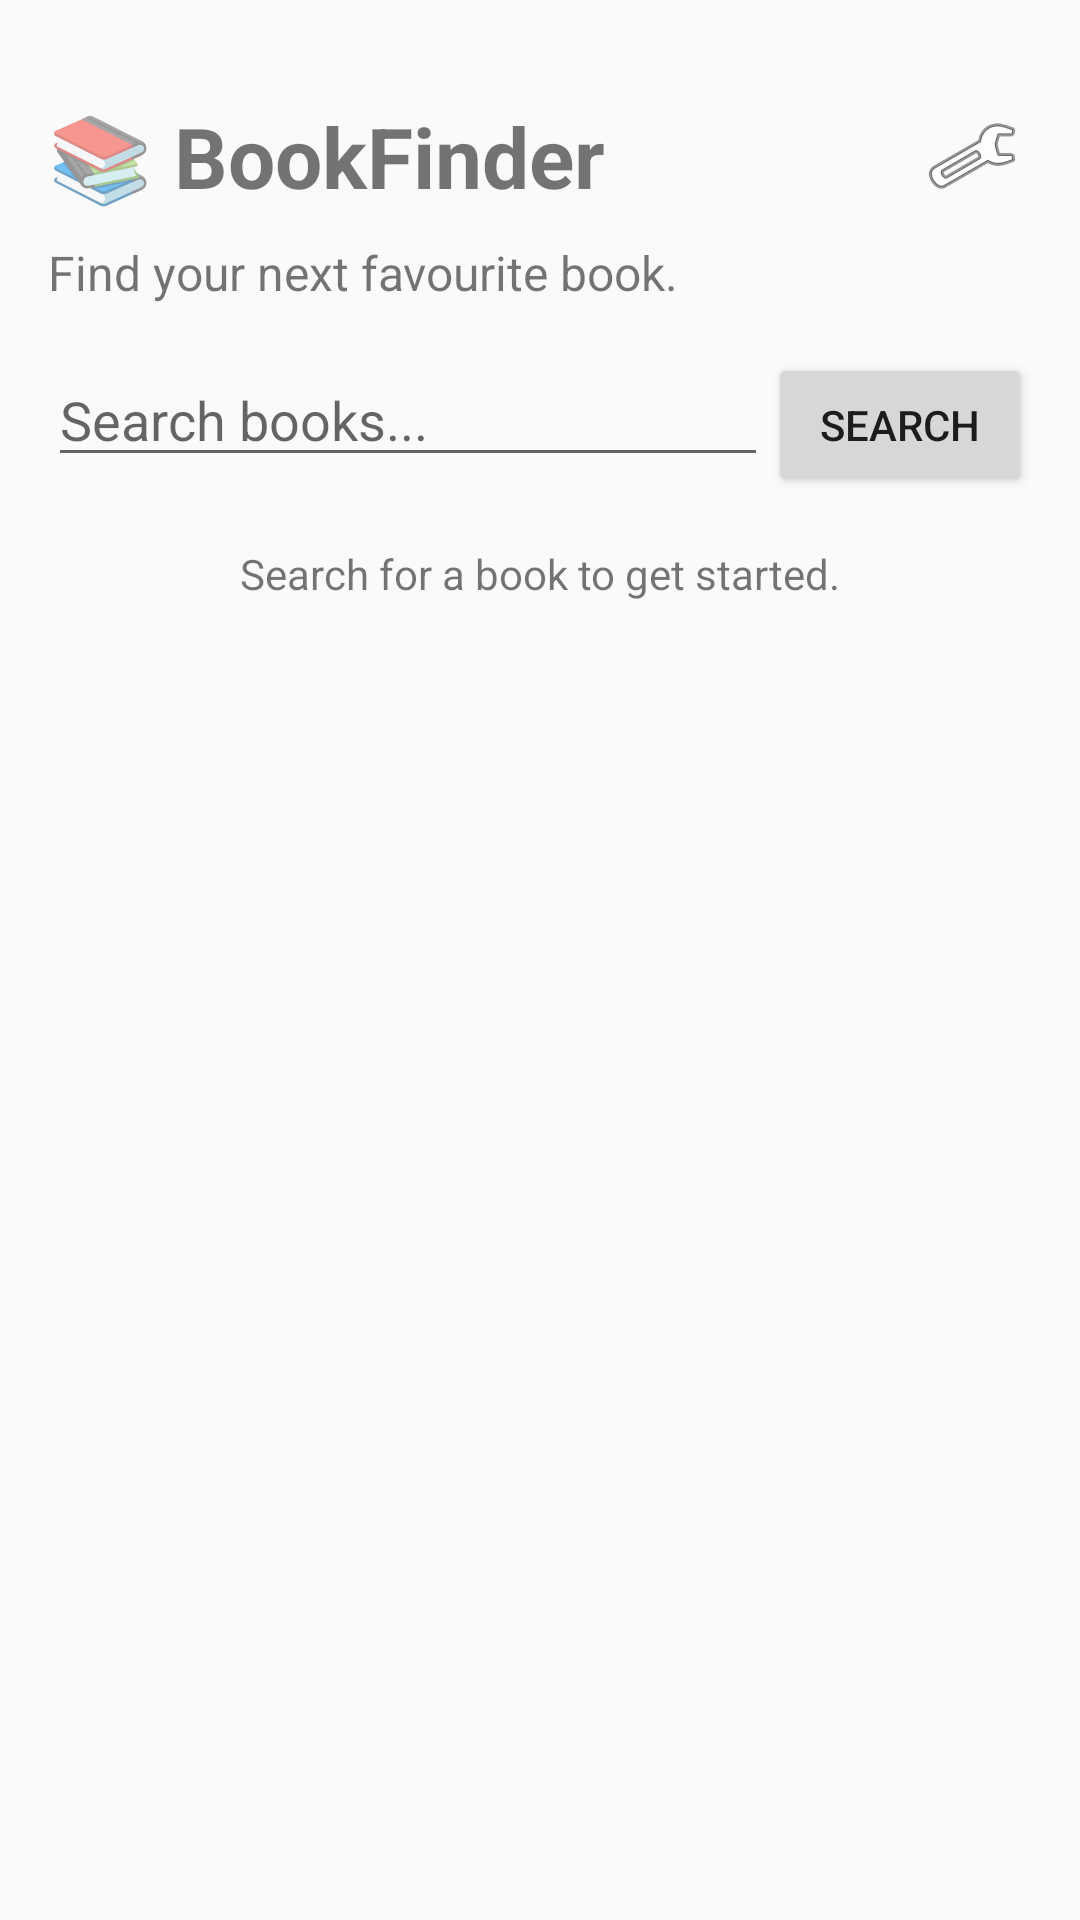

Where to tap for icons on this 1080×1920 app screen, as [x,y]:
Settings: [972,156]
